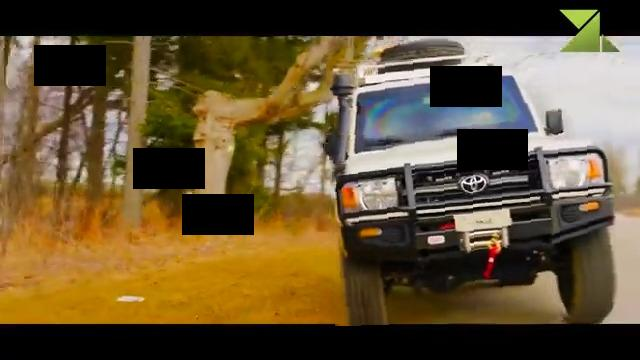MIL_HMMWV: (328, 56, 617, 325)
